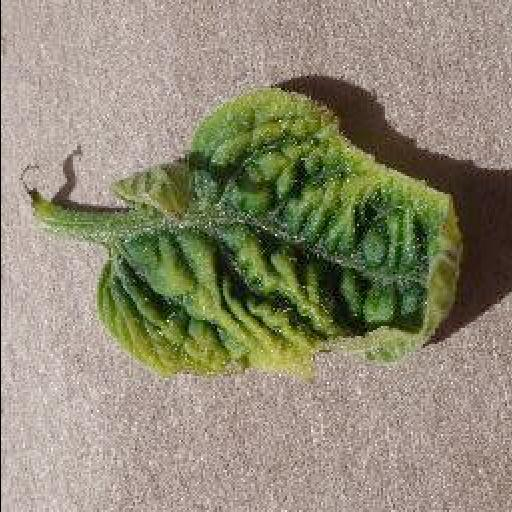disease_tomato: (96, 88, 464, 386)
